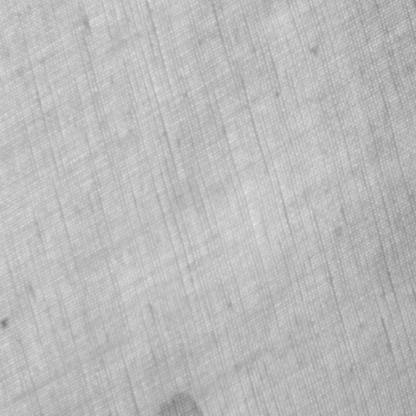oil spot: (156, 392, 204, 415)
